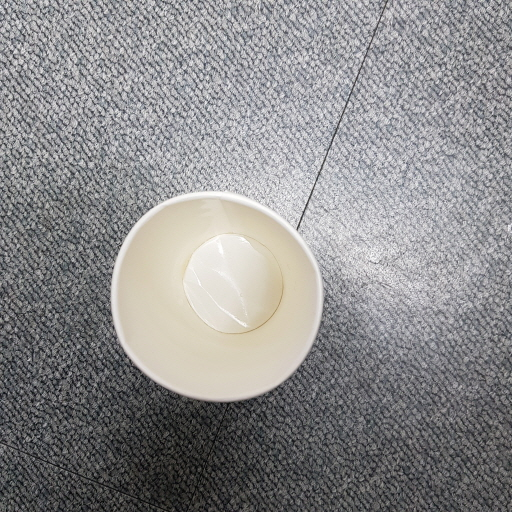Paper_1: (107, 188, 328, 403)
